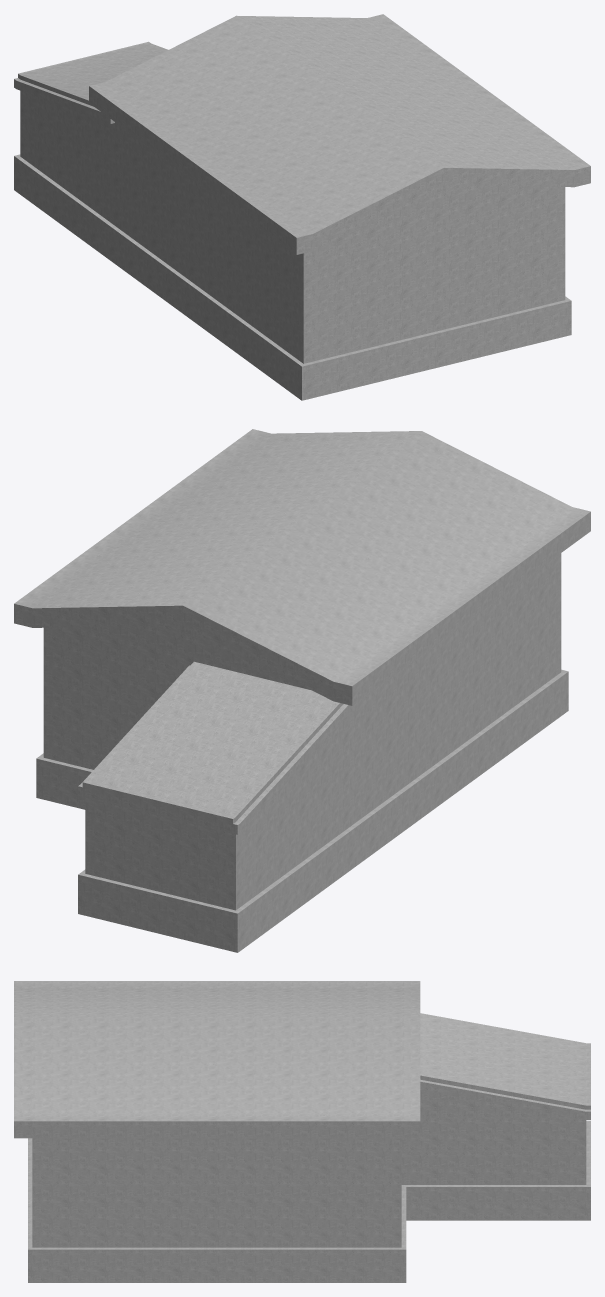
The model's file is house.fbx.
3 renders of one model, top to bottom at view 1: azimuth 30°, elevation 25°; view 2: azimuth 150°, elevation 25°; view 3: azimuth 270°, elevation 25°, orthographic. The views are drawn at different scales.
Visible parts, largest first — view 1: mesh_10; view 2: mesh_10; view 3: mesh_10.
Part boxes in pixels (x1=…): mesh_10: x1=14, y1=14, x2=590, y2=400; mesh_10: x1=14, y1=429, x2=590, y2=952; mesh_10: x1=14, y1=981, x2=590, y2=1282.
Bounding box in the file's own units: 576 × 384 × 1000.
Materials: 1 (1 with a texture image).
